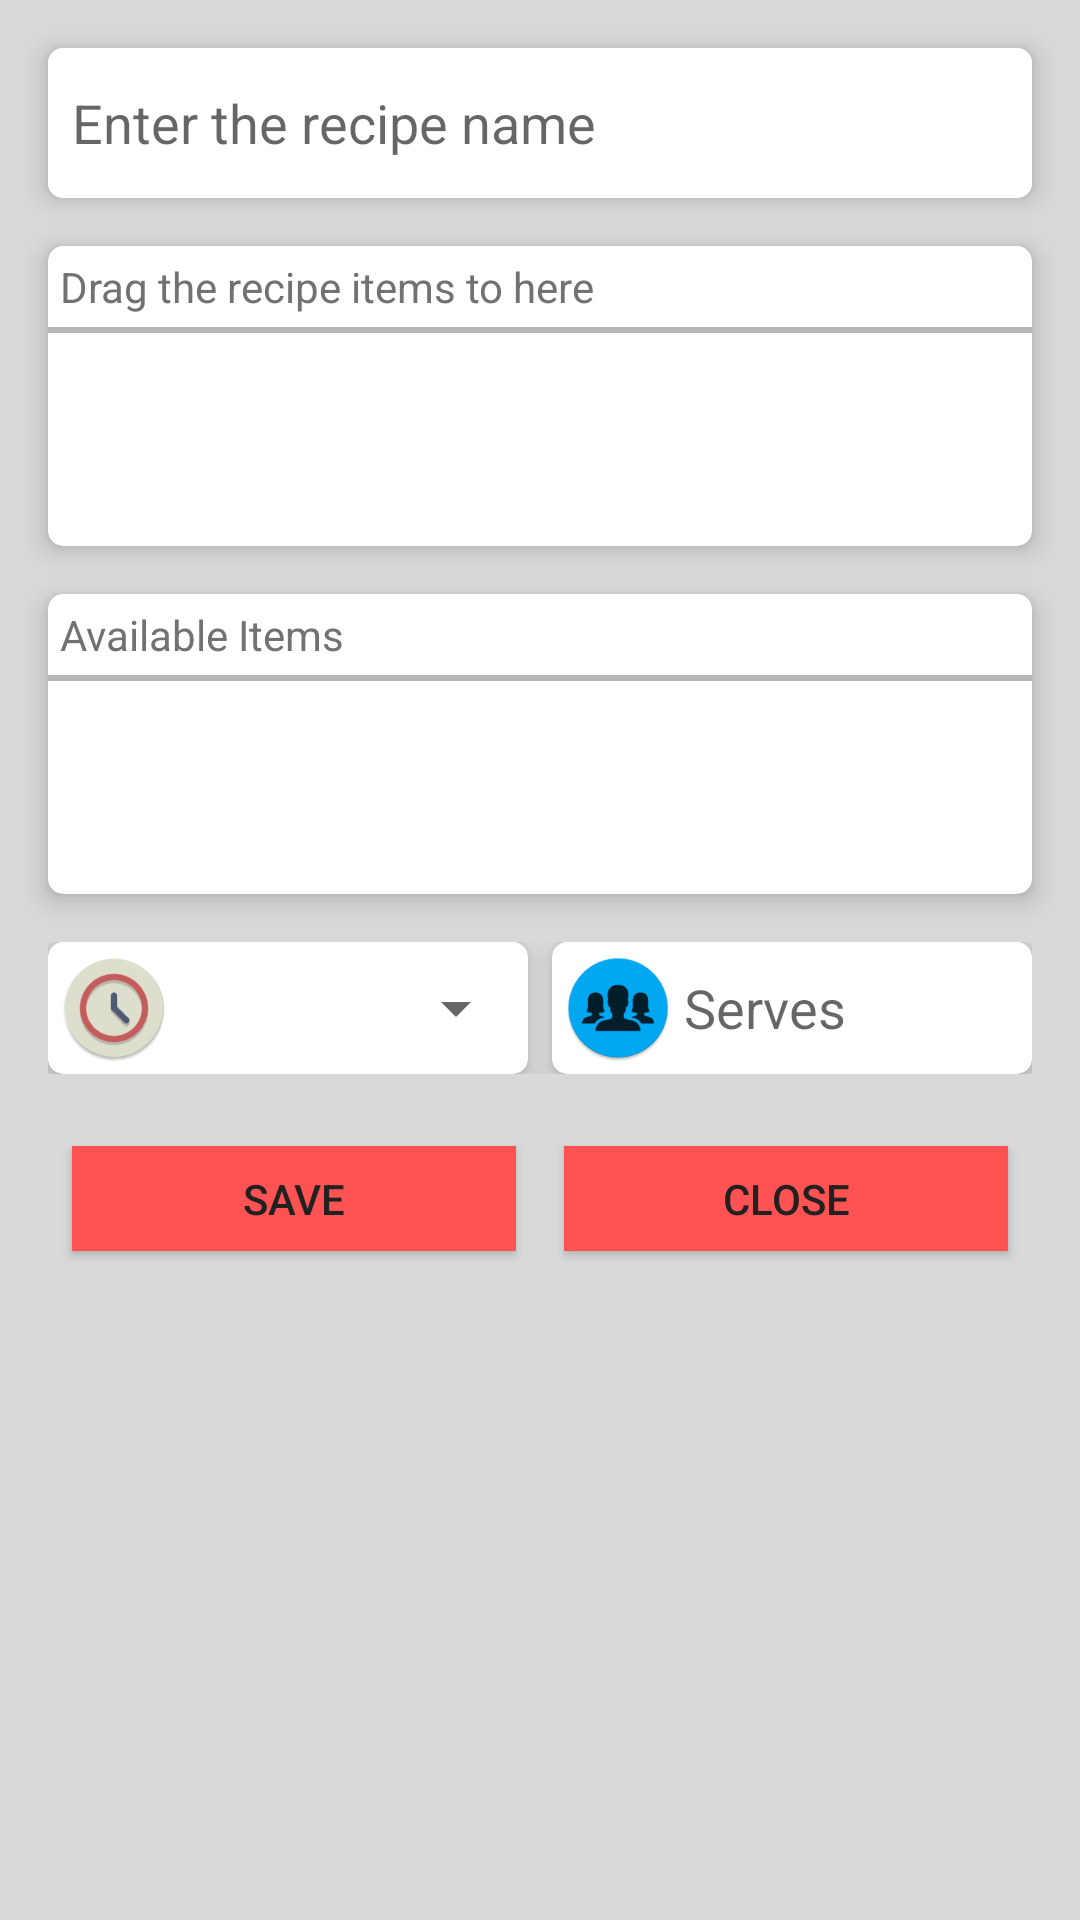

Where icons sit on this 1080×1920 app screen, as bbox=(x1, y1, x2, y2):
clock: bbox=(64, 959, 164, 1060)
people: bbox=(568, 958, 668, 1060)
